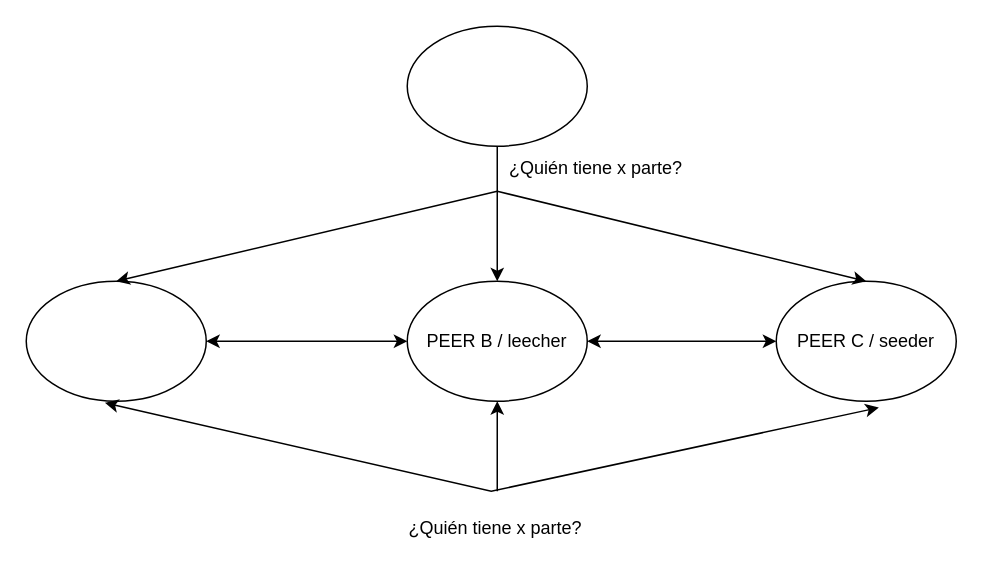
Some shapes in this 983 by 578 pixel diagram are drawn without their labels. The shapes that lost their labels are listed below. From the top down, each one's box as (x1, y1, x2, y2) in pixels, then its label:
(406, 25, 587, 146): TRACKER / DHT
(25, 280, 206, 401): PEER A / leecher
